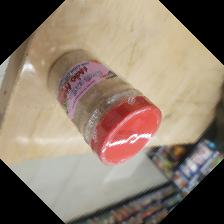Hao_hao: (45, 48, 162, 168)
